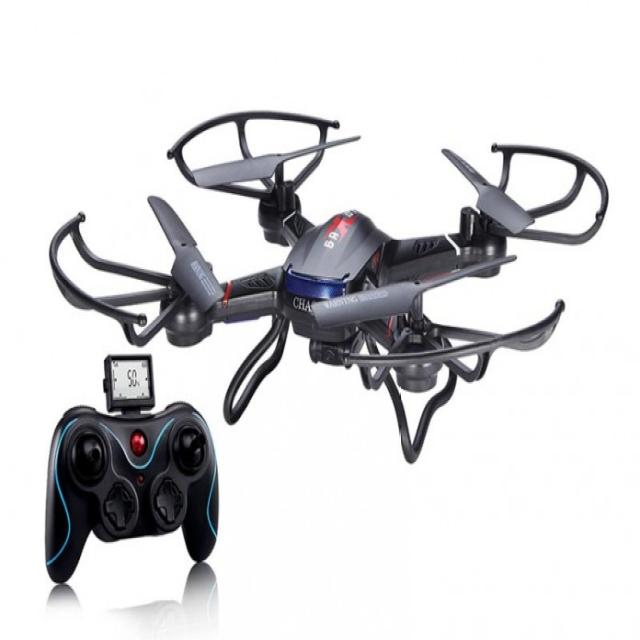drone: (39, 76, 627, 448)
